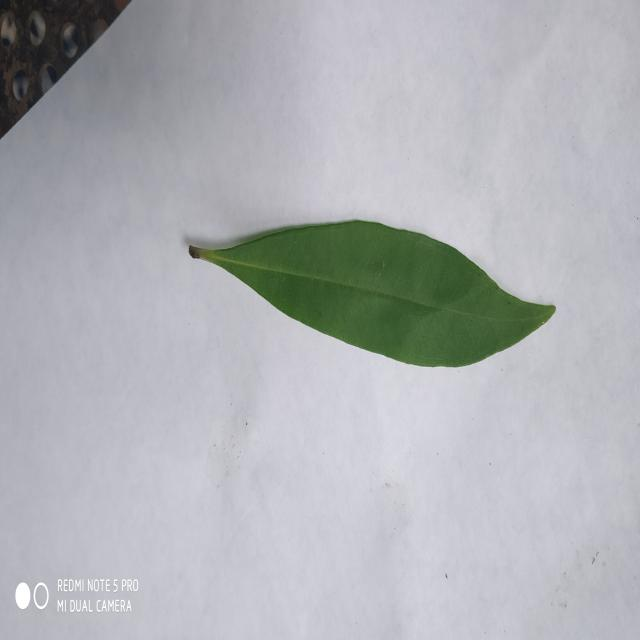nerale: (189, 220, 555, 367)
